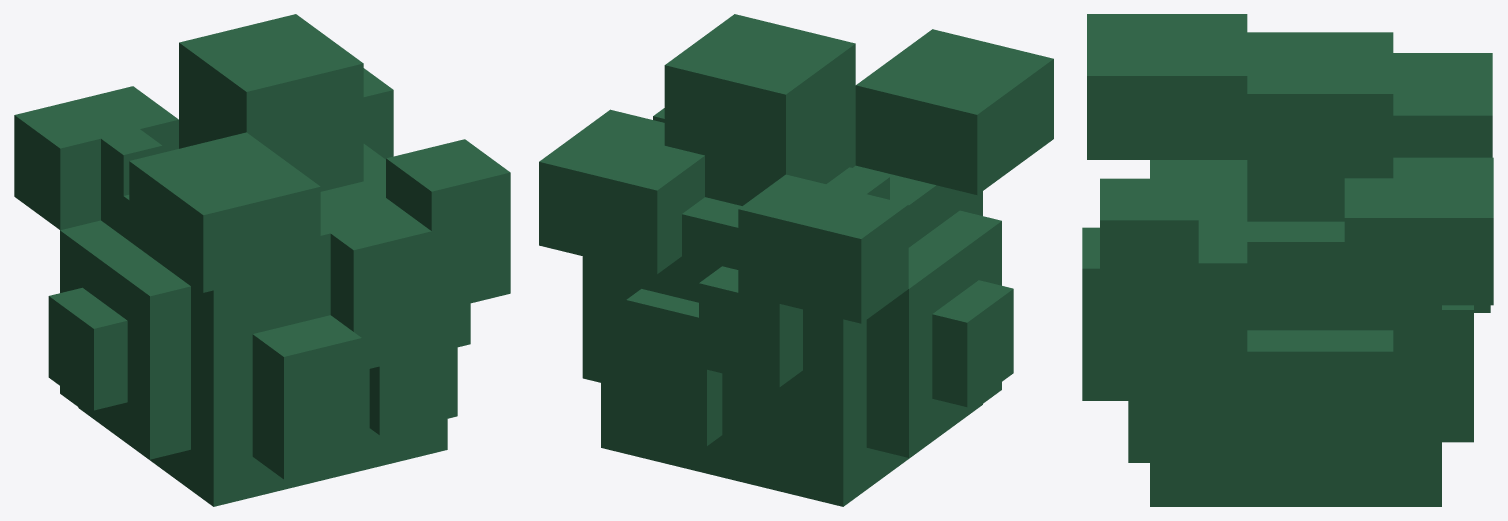
File: shrub.fbx
3 renders of one model, left to right at view 1: azimuth 30°, elevation 25°; view 2: azimuth 150°, elevation 25°; view 3: azimuth 270°, elevation 25°, orthographic. The views are drawn at different scales.
Visible parts, largest first — view 1: Cube_2; view 2: Cube_2; view 3: Cube_2.
Boxes of the visible parts, <box> form: Cube_2: <box>14,14,510,506</box>; Cube_2: <box>539,14,1053,506</box>; Cube_2: <box>1082,14,1493,506</box>.
Size of the model in its own units: 522 by 519 by 492.
